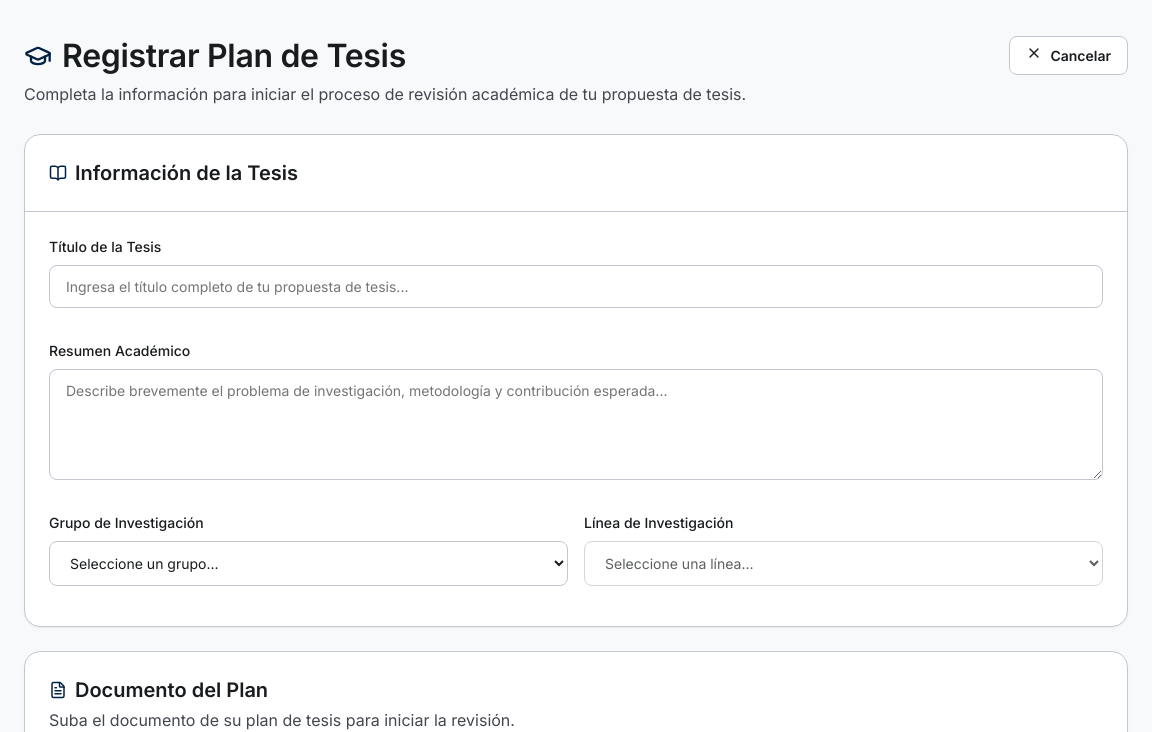
Scenario: NewThesisPlan › shows validation error when no group selected
In the field with placeholder "Ingresa el título completo de tu propuesta de tesis...": (576, 286) [49,265,1103,308], type "Título válido para test"
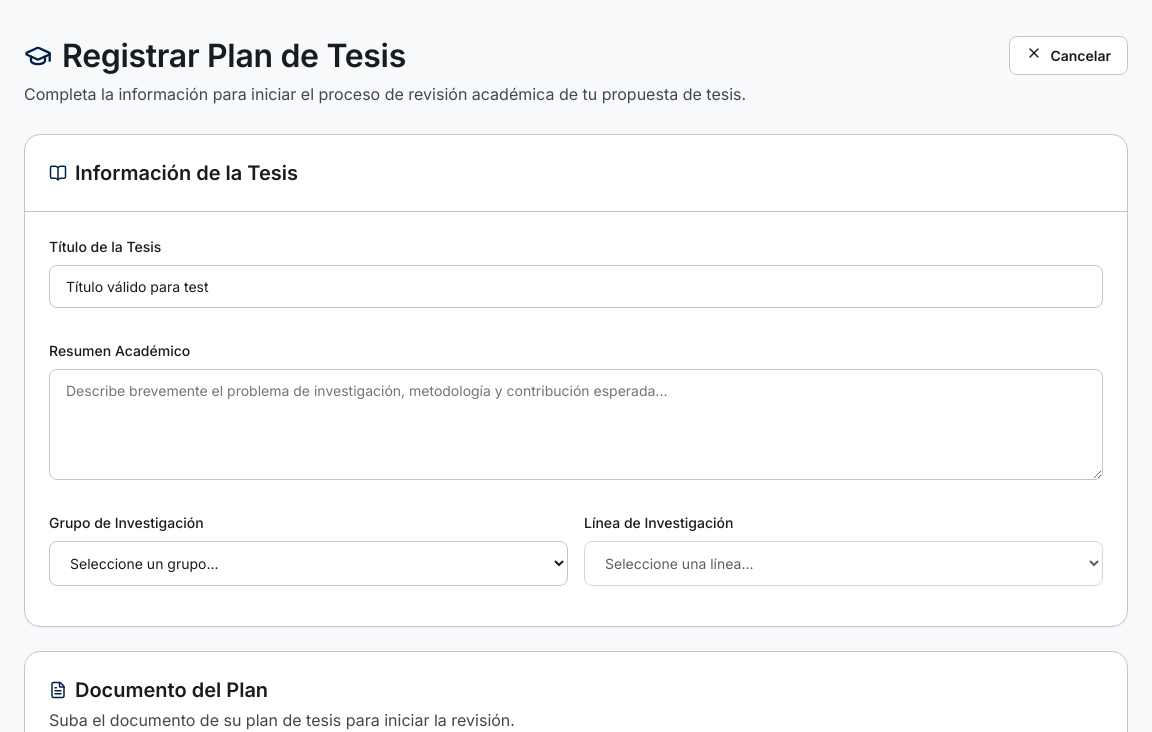
Replace the text in the text box with placeholder "Describe brevemente" with "Resumen válido con más de diez caracteres": (576, 424) [49,369,1103,480]
(page scrolled)
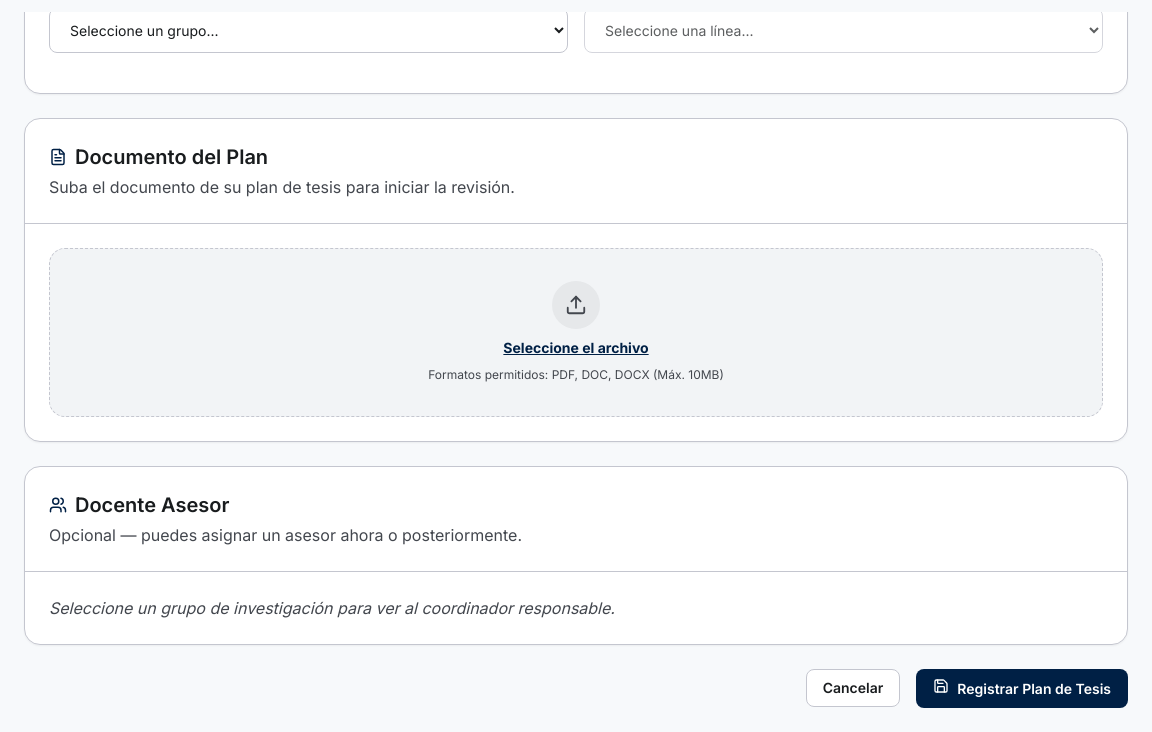
Click the button "Registrar Plan de Tesis": (1022, 688) [916,669,1128,708]
(page scrolled)
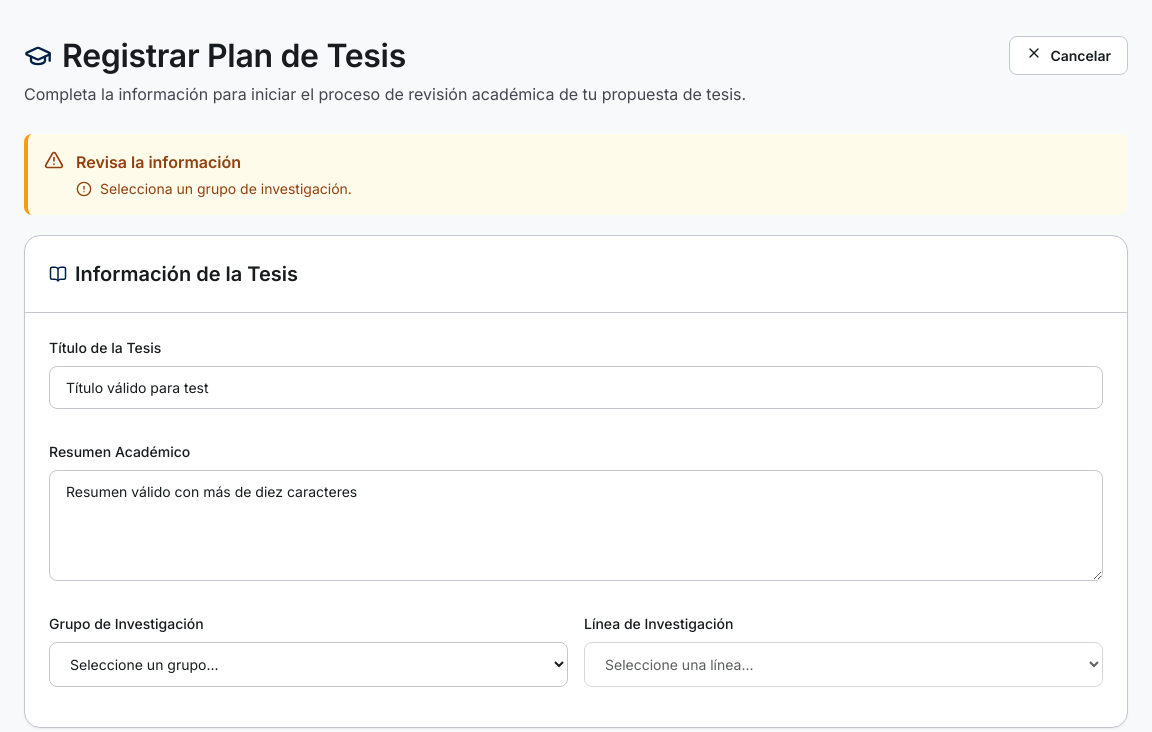
Check: the text "Selecciona un grupo de investigación." is shown, box [100,178,352,199]
